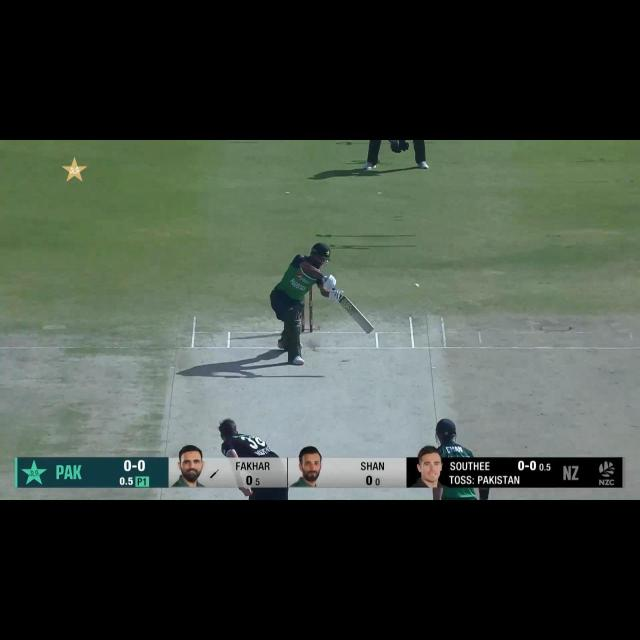bat: (337, 294, 374, 334)
toe: (365, 325, 375, 334)
